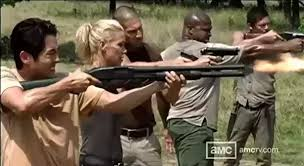Gun: (96, 62, 187, 89), (201, 47, 239, 58)
